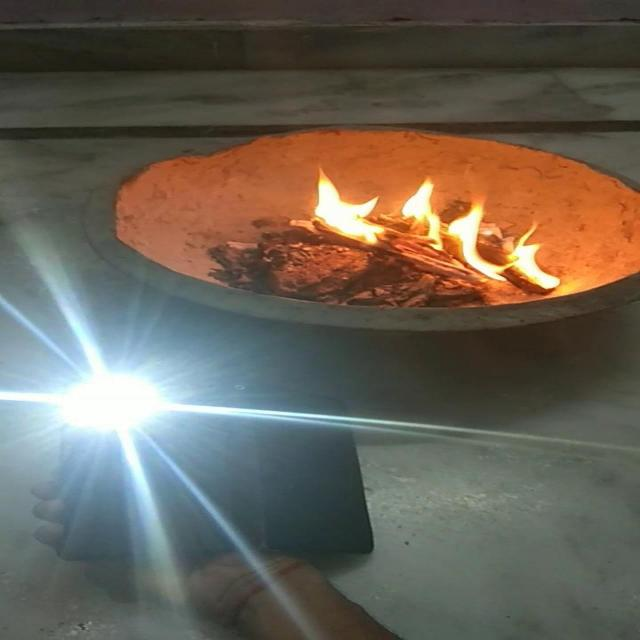fire: (302, 161, 571, 293)
